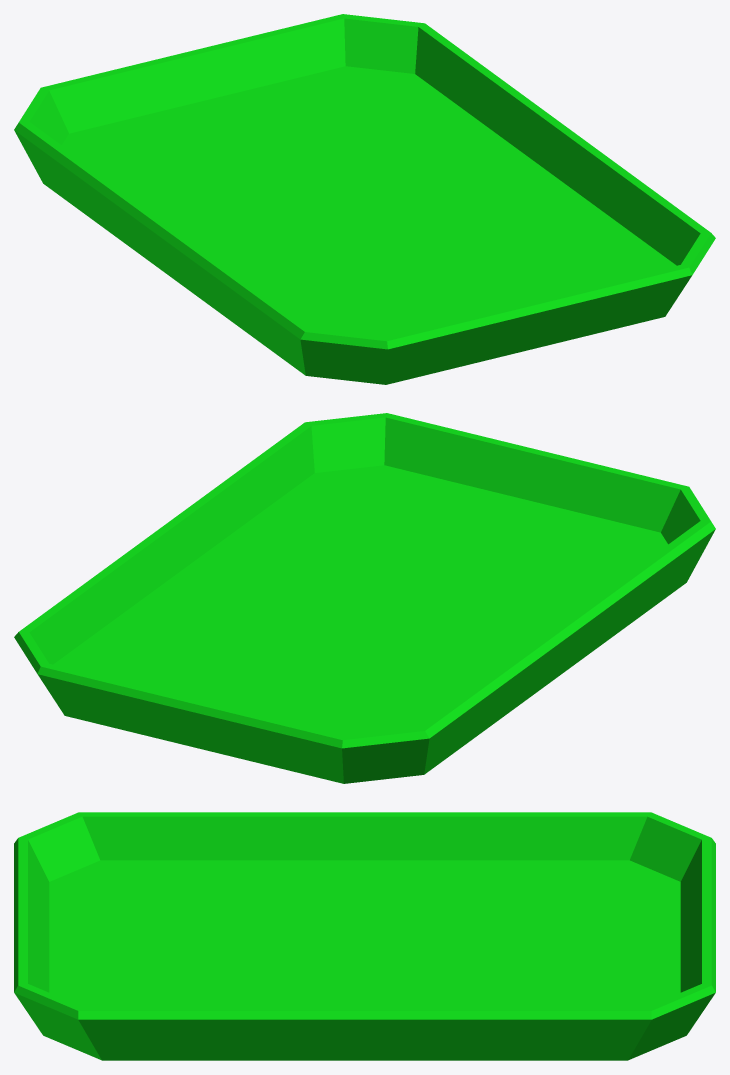
The model's file is Plate_Steel_01.fbx.
The picture shows the model from 3 angles, top to bottom: view 1: azimuth 30°, elevation 25°; view 2: azimuth 150°, elevation 25°; view 3: azimuth 270°, elevation 25°; orthographic projection.
Visible parts, largest first — view 1: Plate_Steel_01; view 2: Plate_Steel_01; view 3: Plate_Steel_01.
Part boxes in pixels (<box>): Plate_Steel_01: <box>14,14,715,384</box>; Plate_Steel_01: <box>14,413,715,783</box>; Plate_Steel_01: <box>14,812,715,1060</box>.
Bounding box in the file's own units: 45.51 × 5.82 × 66.49.
